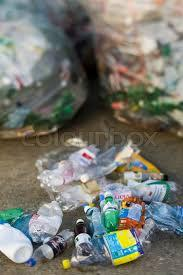Plastic bottle: (63, 231, 155, 269), (124, 177, 180, 201), (29, 232, 60, 271), (28, 198, 61, 232), (101, 188, 116, 229)
